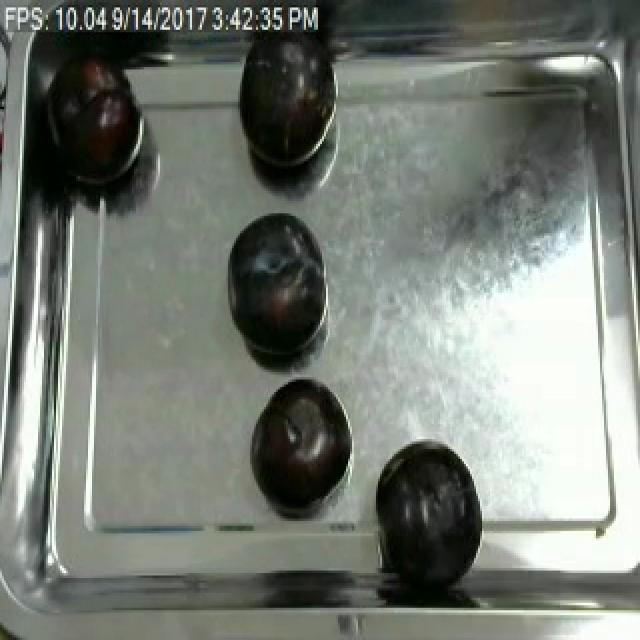Fruit: (372, 439, 488, 588), (220, 203, 326, 364), (228, 30, 342, 178), (50, 47, 150, 189), (248, 377, 342, 506)
